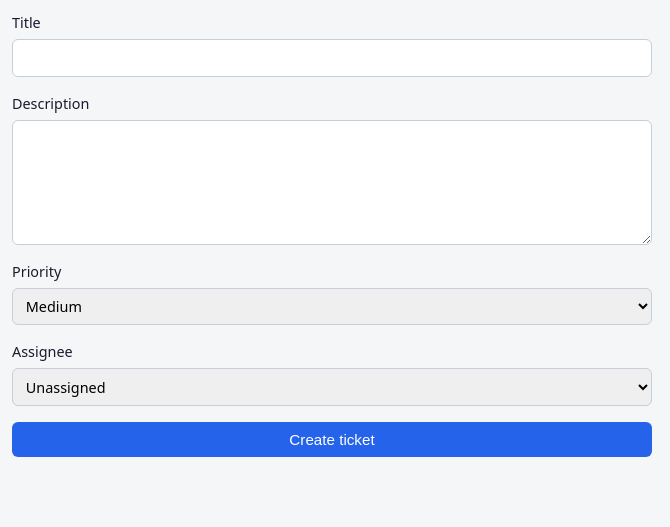
Test: TicketForm › shows client validation for required fields
Click the button "Create ticket" at (332, 439), box [12,422,652,457]
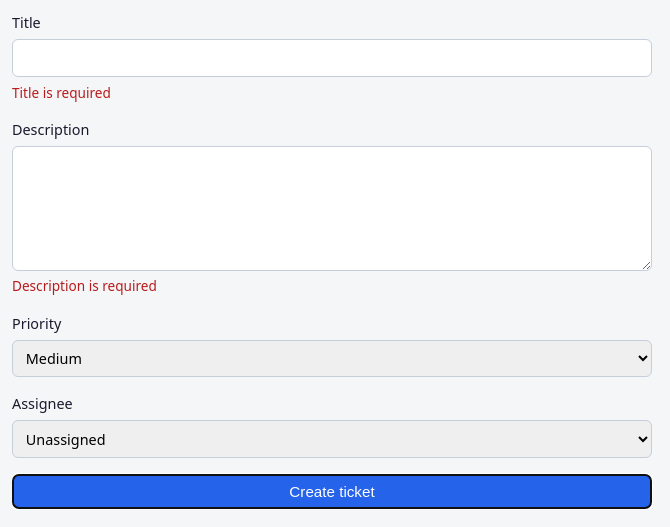
Check: the text "Title is required" is shown, box [12,83,111,102]
Check: the text "Description is required" is shown, box [12,276,157,295]
